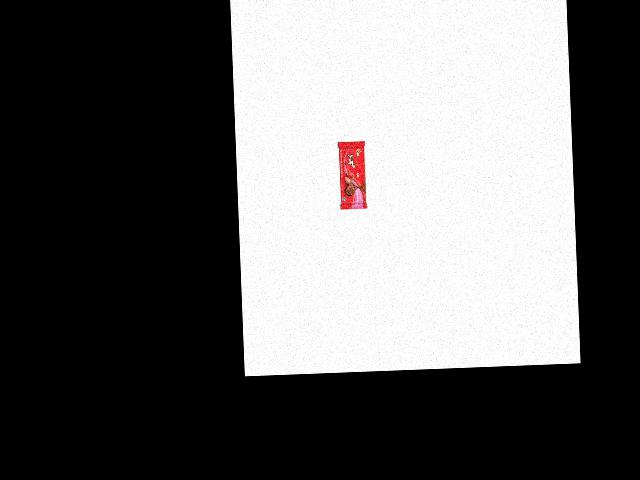chocolate: (332, 135, 367, 210)
